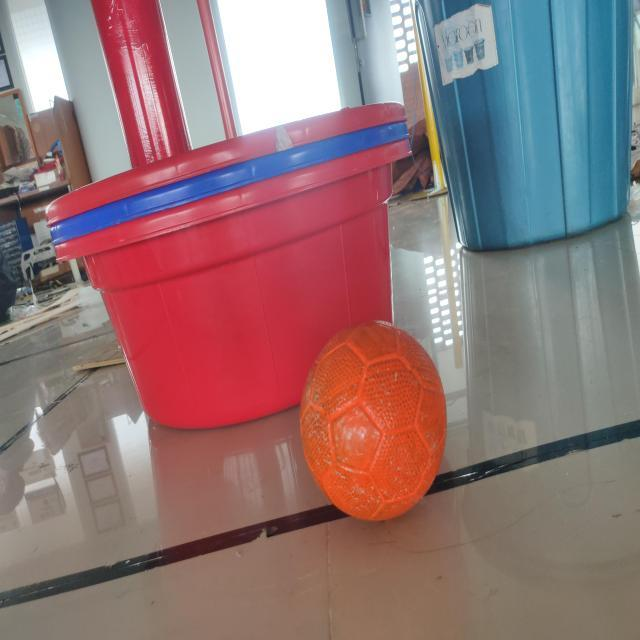bola: (301, 317, 447, 535)
